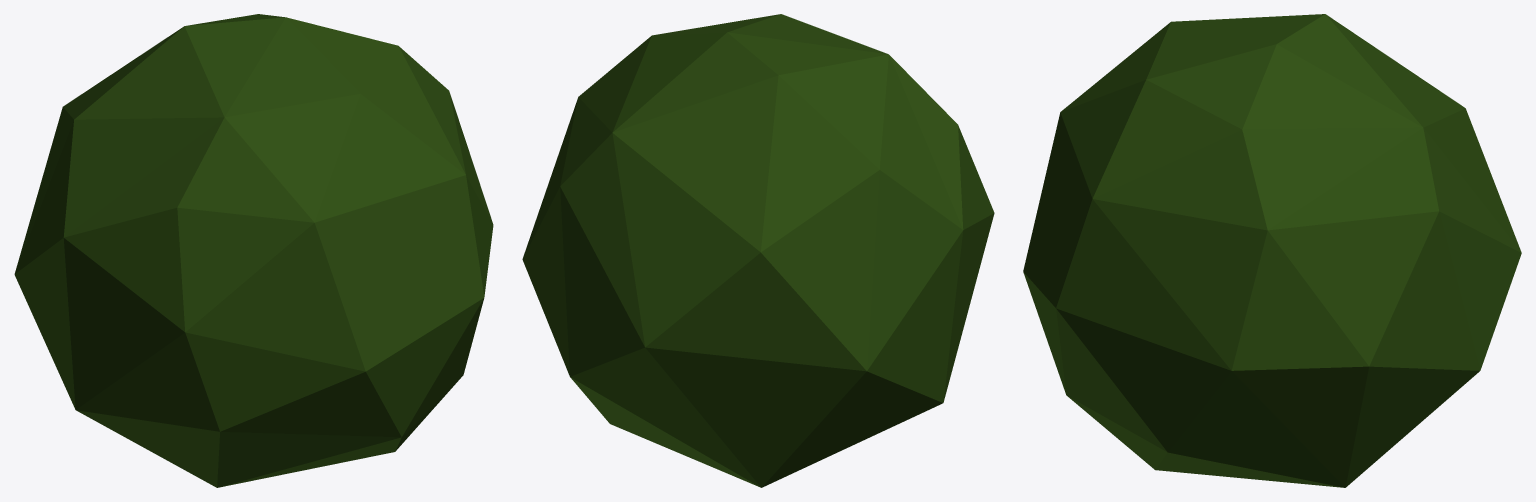
The model's file is bush.glb.
3 views of the same model, side by side, from view 1: azimuth 30°, elevation 25°; view 2: azimuth 150°, elevation 25°; view 3: azimuth 270°, elevation 25° (orthographic). The views are drawn at different scales.
Parts seen in each view (by area): view 1: Sphere; view 2: Sphere; view 3: Sphere.
Part boxes in pixels (left/top/right/bottom): Sphere: left=14, top=14, right=493, bottom=487; Sphere: left=522, top=14, right=994, bottom=487; Sphere: left=1023, top=14, right=1521, bottom=487.
Bounding box in the file's own units: 2.01 × 1.85 × 2.08.
